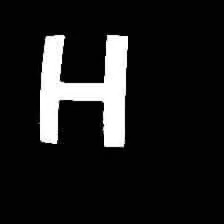LTR_H: (29, 23, 137, 153)
